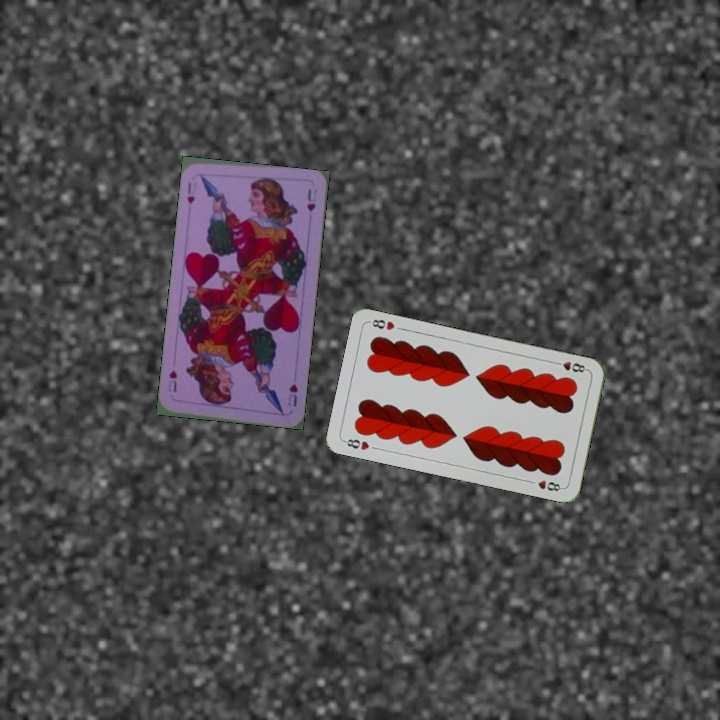H8: (550, 357, 590, 375), (340, 435, 372, 453)
HU: (284, 380, 300, 409), (183, 179, 197, 206)
